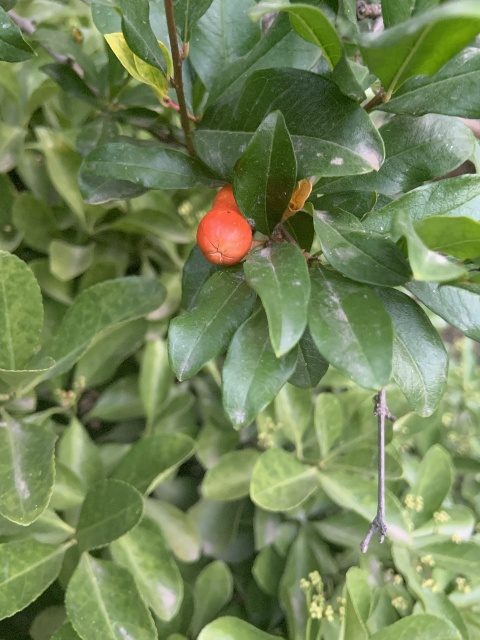bud: (196, 183, 252, 267)
